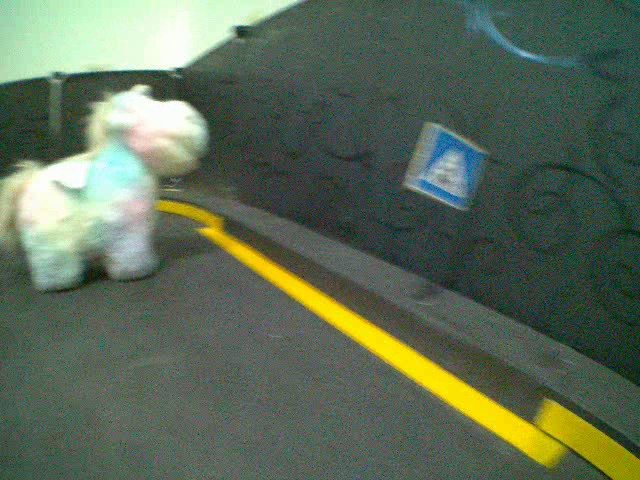unicorn: (1, 82, 210, 295)
